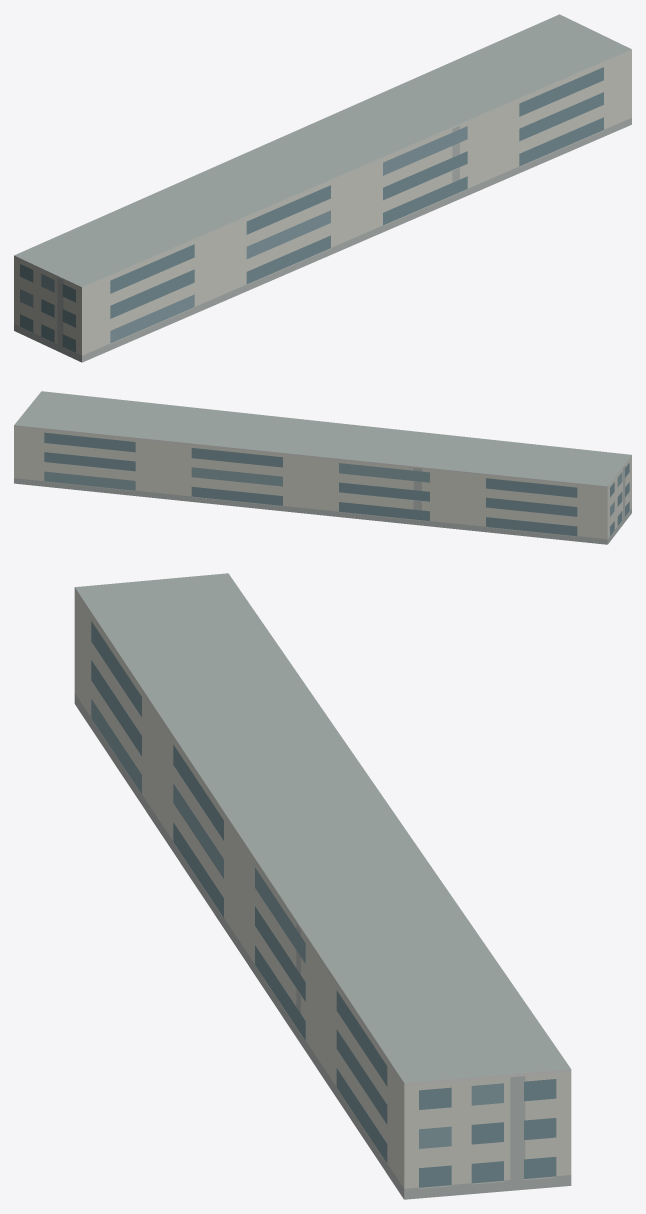
The model's file is residential-3a9068b9-577b-43e9-bfd1-670c8f278f0a.glb.
The picture shows the model from 3 angles, top to bottom: view 1: azimuth 30°, elevation 25°; view 2: azimuth 150°, elevation 25°; view 3: azimuth 270°, elevation 25°; orthographic projection. The views are drawn at different scales.
Parts seen in each view (by area): view 1: residential-3a9068b9-577b-43e9-bfd1-670c8f278f0a.tmp; view 2: residential-3a9068b9-577b-43e9-bfd1-670c8f278f0a.tmp; view 3: residential-3a9068b9-577b-43e9-bfd1-670c8f278f0a.tmp.
Boxes of the visible parts, left/top/right/bottom form: residential-3a9068b9-577b-43e9-bfd1-670c8f278f0a.tmp: left=14, top=14, right=631, bottom=362; residential-3a9068b9-577b-43e9-bfd1-670c8f278f0a.tmp: left=14, top=391, right=631, bottom=544; residential-3a9068b9-577b-43e9-bfd1-670c8f278f0a.tmp: left=74, top=573, right=571, bottom=1199.
Size of the model in its own units: 85.71 by 9.15 by 35.29.
